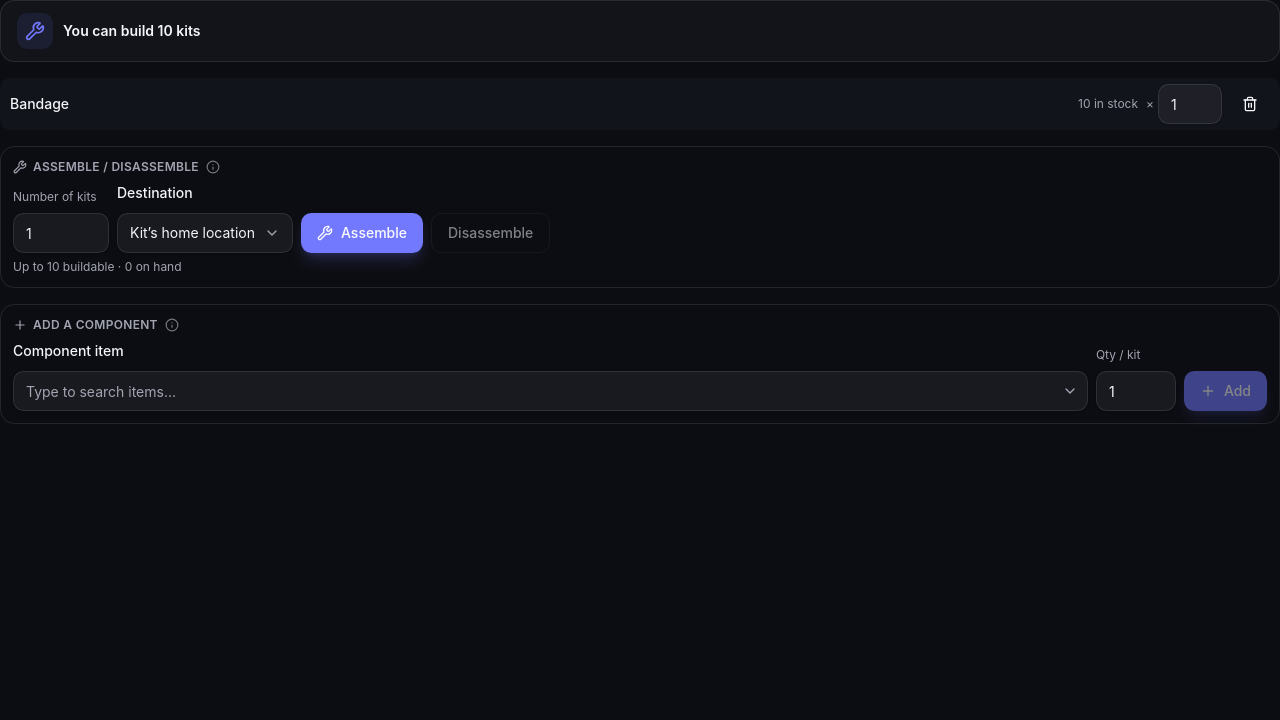
Test case: KitEditor — assemble / disassemble (v2) › humanises a build failure in the toast rather than showing its internal text (#681)
Click the button with test id "assemble-kit" at (362, 233), box [301,213,423,253]
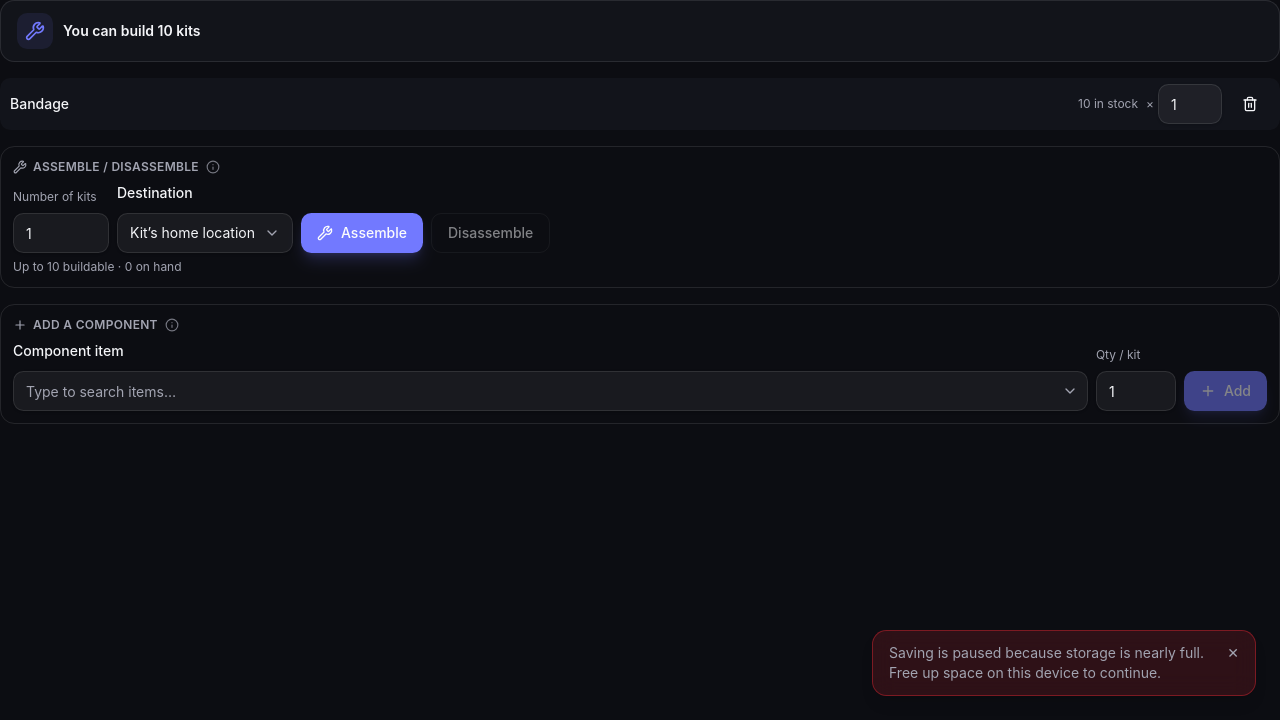
expect the message with test id "toast" does not show "Hard Stop": met, box [872,630,1256,696]
expect the message with test id "toast" shows "Saving is paused because storage is nearly full.": met, box [889,644,1204,681]
